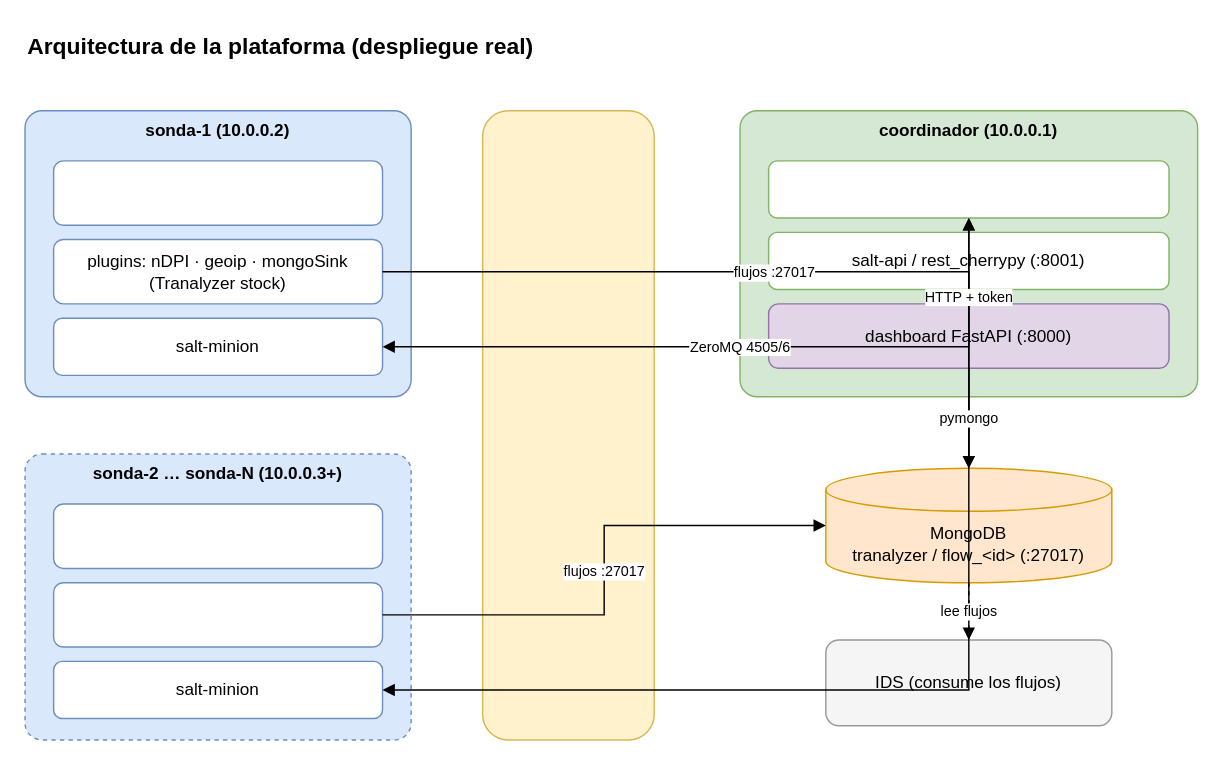
Some shapes in this 1223 by 765 pixel diagram are drawn without their labels. Here are the shapes that lost their labels. From the top down, the centre of each, then its label:
[217,192]: tranalyzer -i eth0 (captura continua de tráfico real)
[968,188]: salt-master (4505 / 4506)
[567,424]: Túnel WireGuard 10.0.0.0/24
[217,535]: tranalyzer -i eth0
[217,614]: nDPI · geoip · mongoSink
